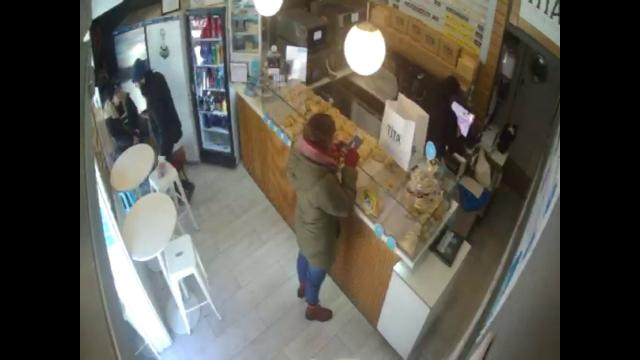cliente: (288, 113, 358, 322), (139, 68, 194, 199), (103, 85, 140, 155)
empleado: (424, 76, 465, 158)
